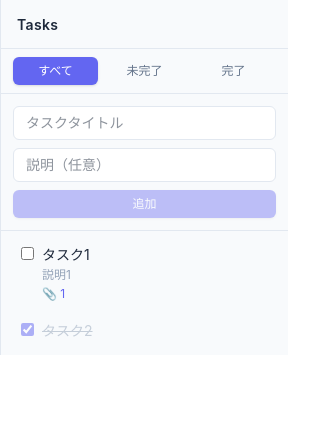
it: TaskPanel - ファイル紐づけUI › タスクをクリックすると詳細が展開される (Req 5.3)
The image size is (320, 446).
Check: the text "タスク1" is shown, box top-left (42, 246), bottom-right (90, 263)
Note: Click on task title area to expand detail
Click the button named "Show details for \"タスク1\"". click: (66, 274)
box: top-left (42, 246), bottom-right (90, 301)
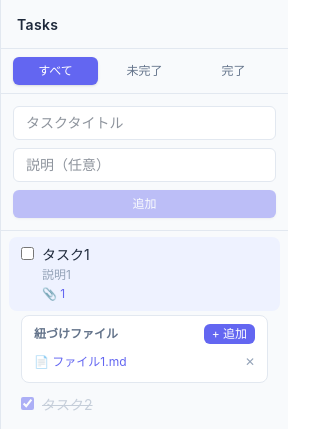
Check: the text "紐づけファイル" is shown, box top-left (34, 326), bottom-right (118, 342)
